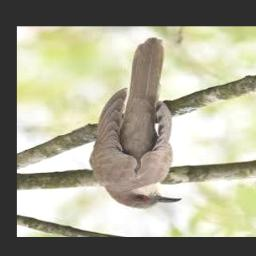Cuckoo: (90, 38, 182, 209)
